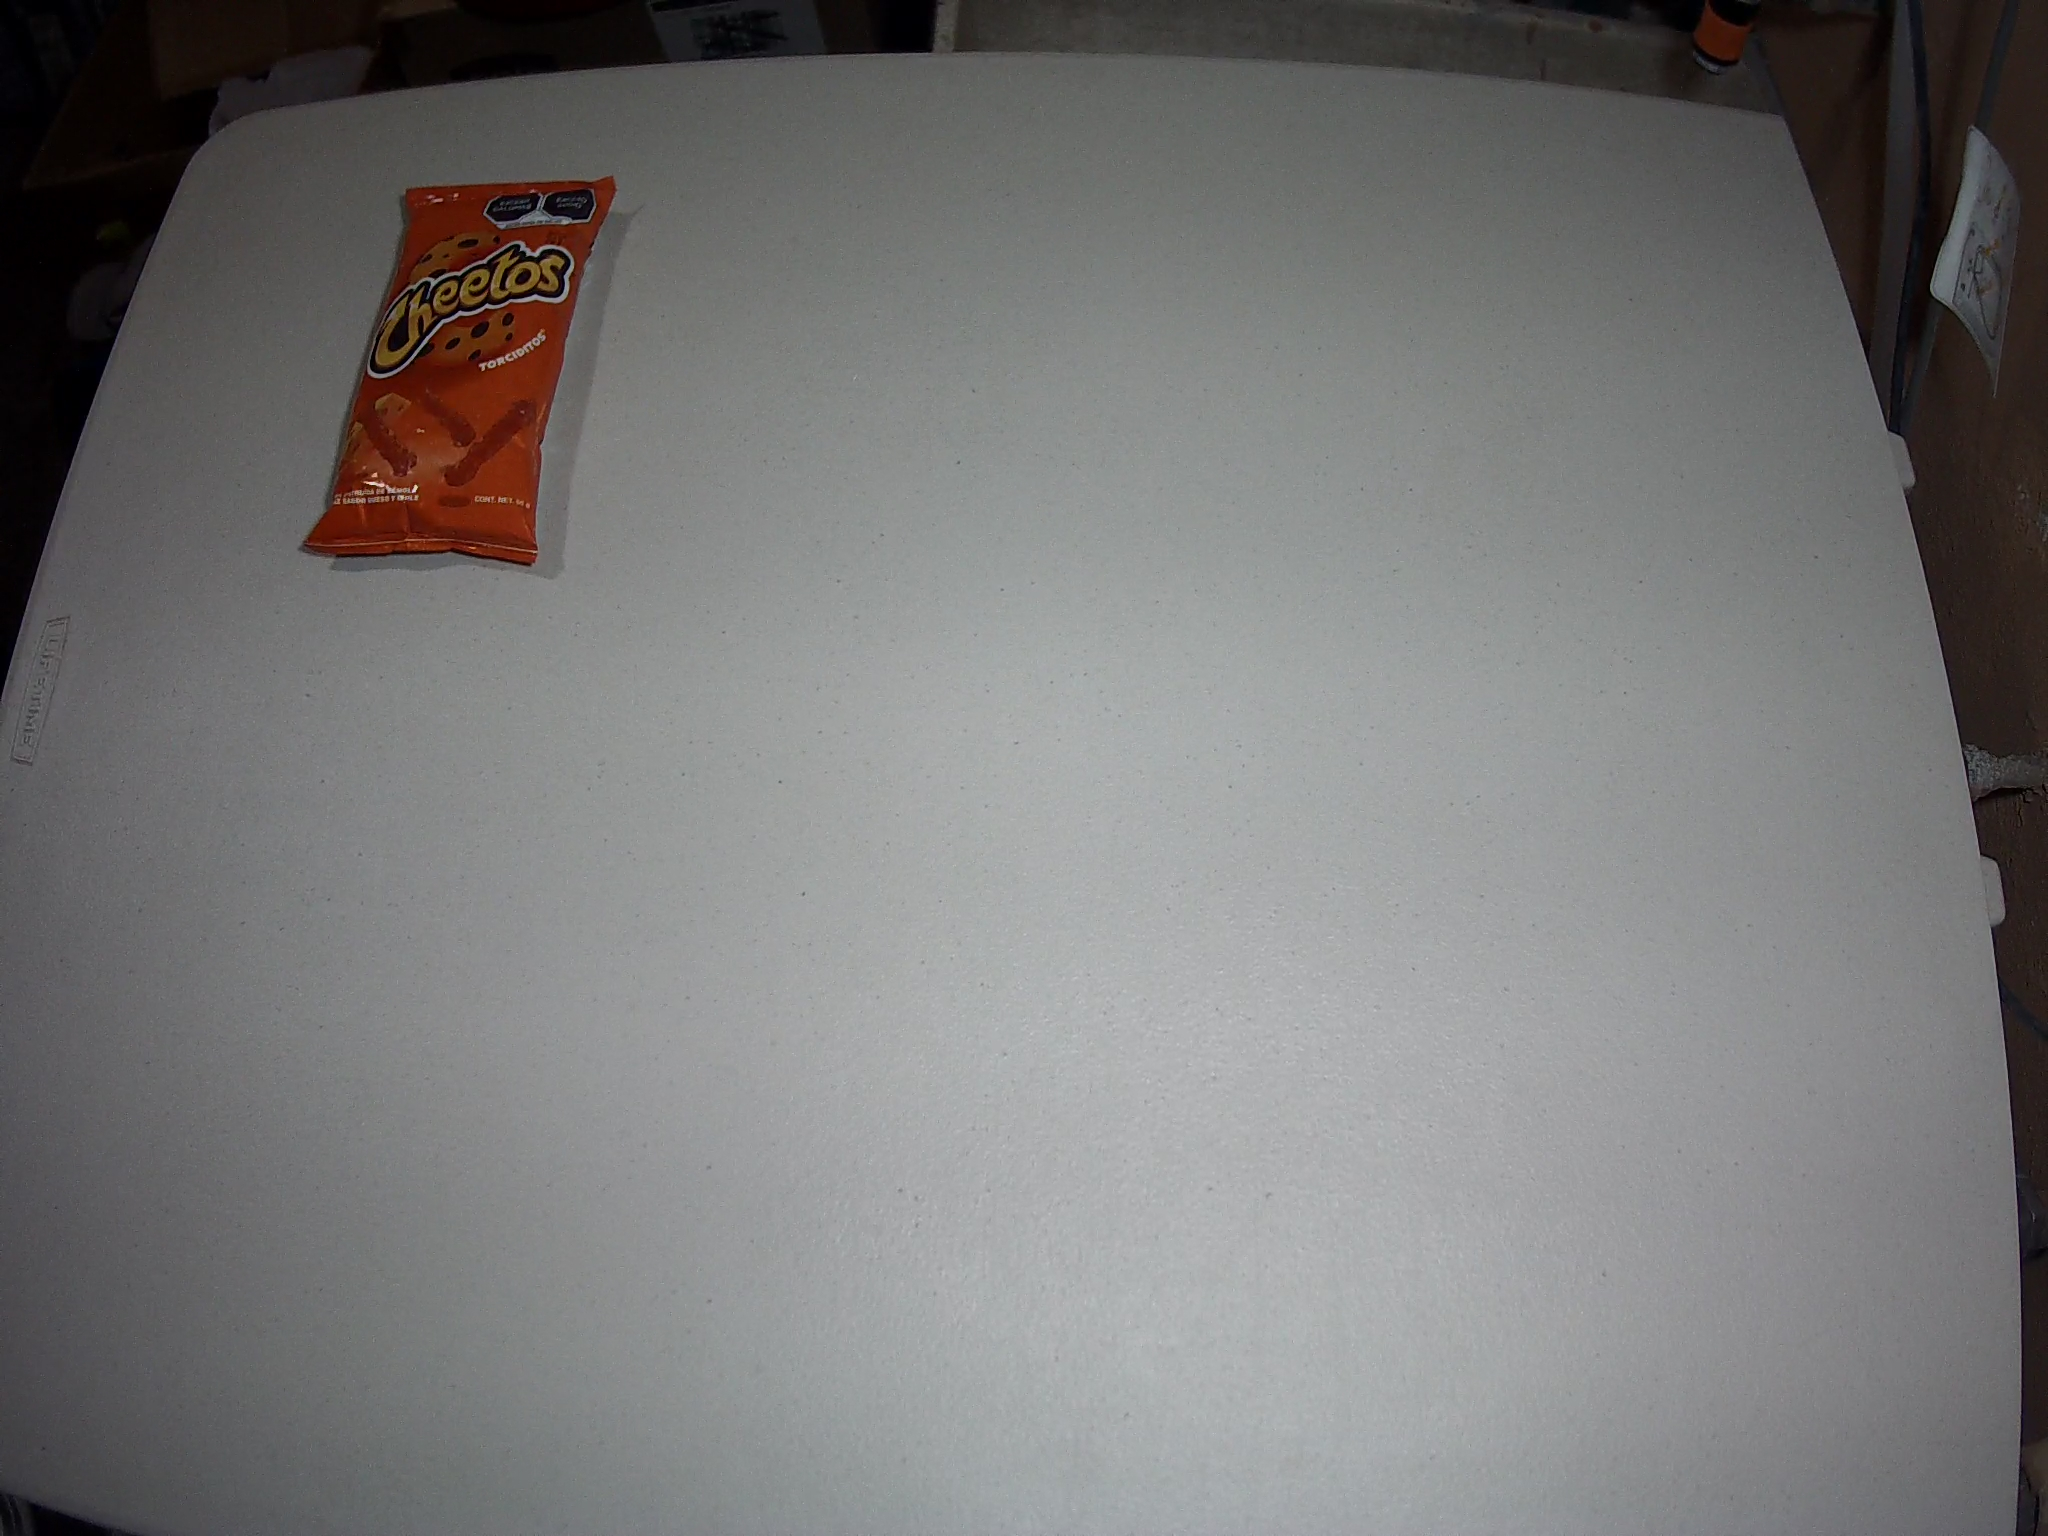CheetosTorciditos_55_F: (302, 174, 618, 570)
